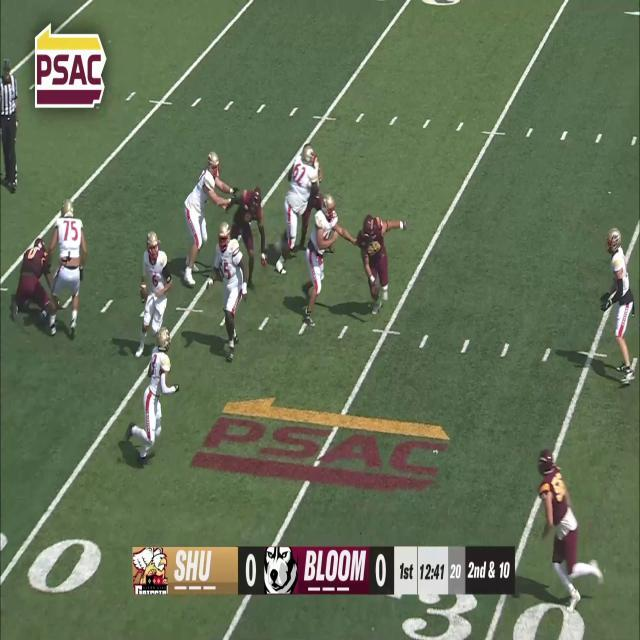football: (139, 282, 148, 304)
